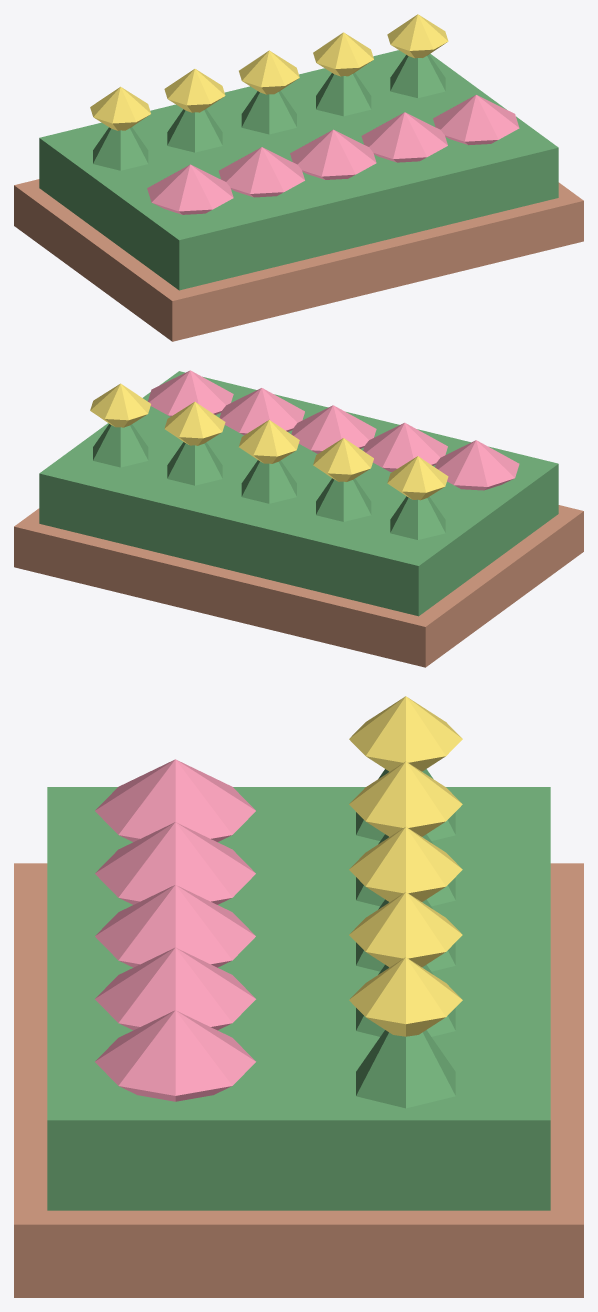
File: flora_22_begonia_hoa_hai_duong_and_cymbidium_orchid_cluster.glb
3 views of the same model, one above another, from view 1: azimuth 30°, elevation 25°; view 2: azimuth 150°, elevation 25°; view 3: azimuth 270°, elevation 25° (orthographic). The views are drawn at different scales.
Visible parts, largest first — view 1: flora_22_begonia_hoa_hai_duong_and_cymbidium_orchid_cluster; view 2: flora_22_begonia_hoa_hai_duong_and_cymbidium_orchid_cluster; view 3: flora_22_begonia_hoa_hai_duong_and_cymbidium_orchid_cluster.
Part boxes in pixels (<box>): flora_22_begonia_hoa_hai_duong_and_cymbidium_orchid_cluster: <box>14,14,583,341</box>; flora_22_begonia_hoa_hai_duong_and_cymbidium_orchid_cluster: <box>14,370,583,667</box>; flora_22_begonia_hoa_hai_duong_and_cymbidium_orchid_cluster: <box>14,696,583,1297</box>.
Bounding box in the file's own units: 3.6 × 1.35 × 2.4.
